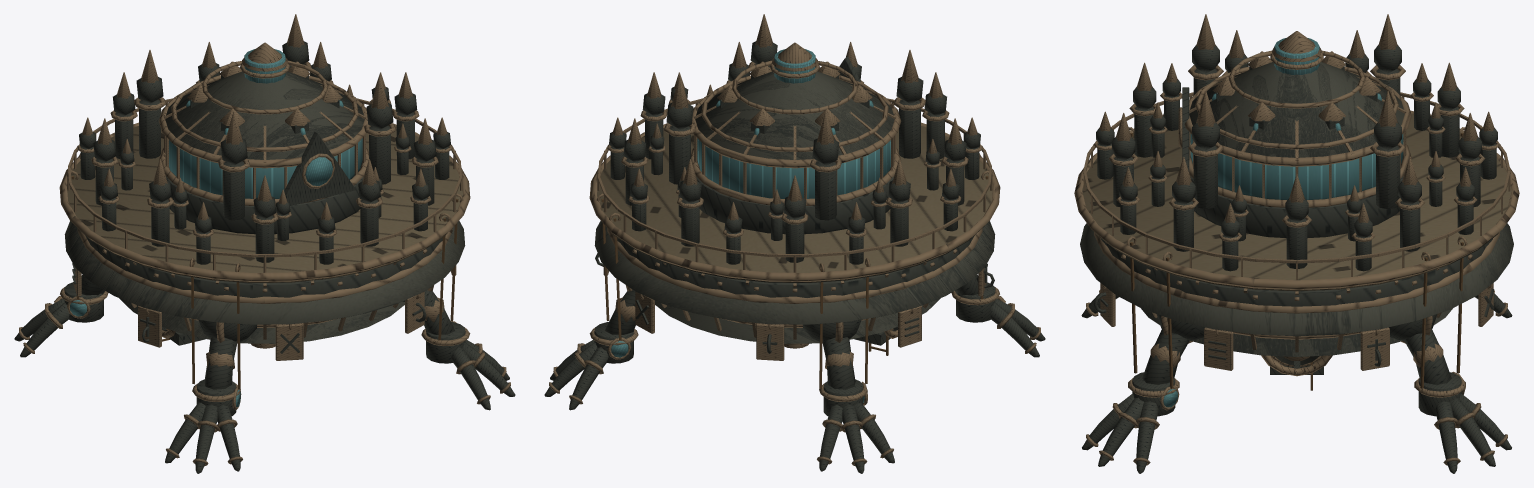
File: salvage-claw-detail-opus5.glb
3 views of the same model, side by side, from view 1: azimuth 30°, elevation 25°; view 2: azimuth 150°, elevation 25°; view 3: azimuth 270°, elevation 25° (orthographic). The views are drawn at different scales.
Visible parts, largest first — view 1: crown, anchor_feet; view 2: crown, anchor_feet; view 3: crown, anchor_feet, winch.
Part boxes in pixels (left/top/right/bottom): crown: left=59, top=14, right=470, bottom=360; anchor_feet: left=14, top=153, right=515, bottom=473; crown: left=589, top=14, right=1000, bottom=360; anchor_feet: left=544, top=153, right=1045, bottom=473; crown: left=1074, top=14, right=1519, bottom=390; anchor_feet: left=1081, top=113, right=1512, bottom=473; winch: left=1261, top=355, right=1332, bottom=376.
Bounding box in the file's own units: 11.4 × 9.97 × 11.4.
1 material, 1 textured.
